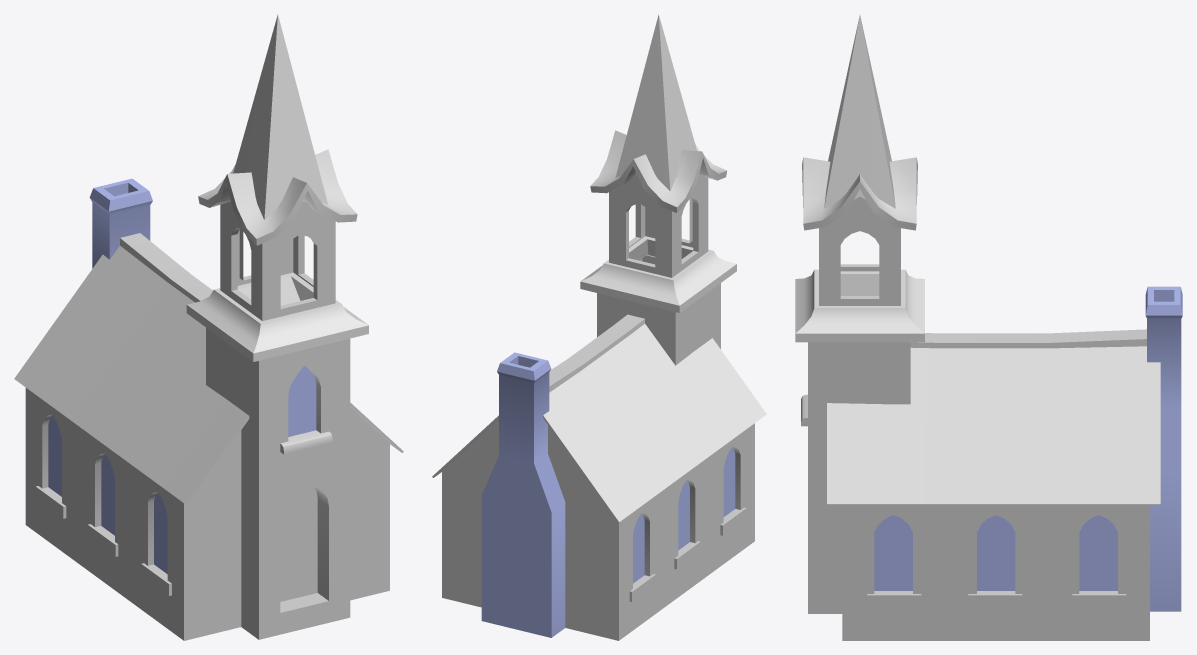
File: Church.fbx
3 views of the same model, side by side, from view 1: azimuth 30°, elevation 25°; view 2: azimuth 150°, elevation 25°; view 3: azimuth 270°, elevation 25° (orthographic). The views are drawn at different scales.
Visible parts, largest first — view 1: Church; view 2: Church; view 3: Church.
Boxes of the visible parts, x1,y1,x2,y2 form: Church: (14,14,403,640); Church: (432,14,766,640); Church: (795,15,1182,640).
Size of the model in its own units: 5.36 by 8.51 by 14.
